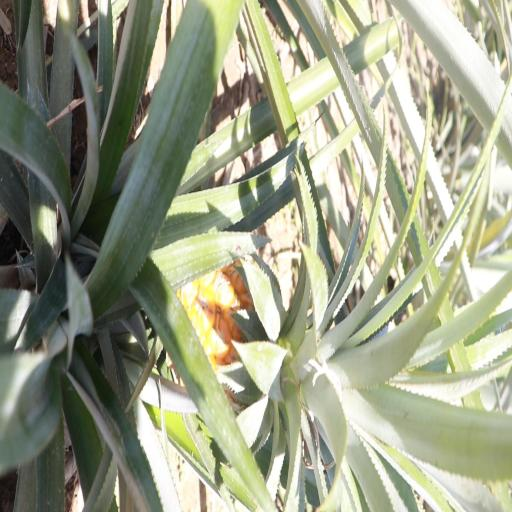Pineapple - v8 v1: (176, 244, 373, 425)
